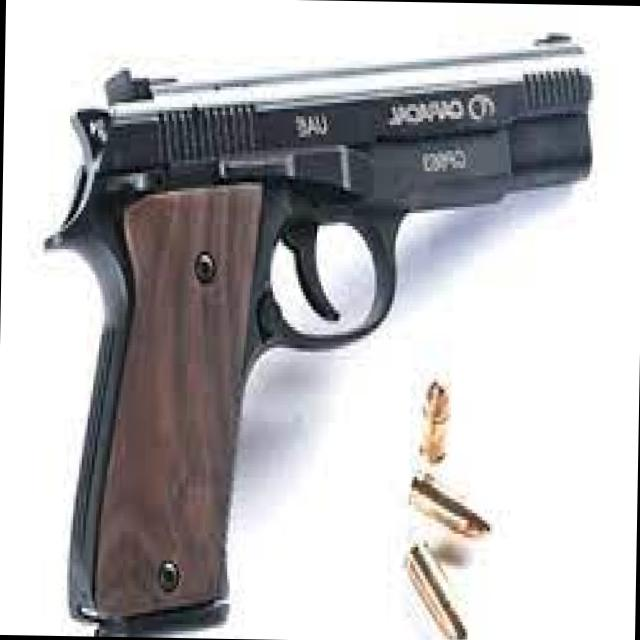Gun: (58, 9, 597, 640)
